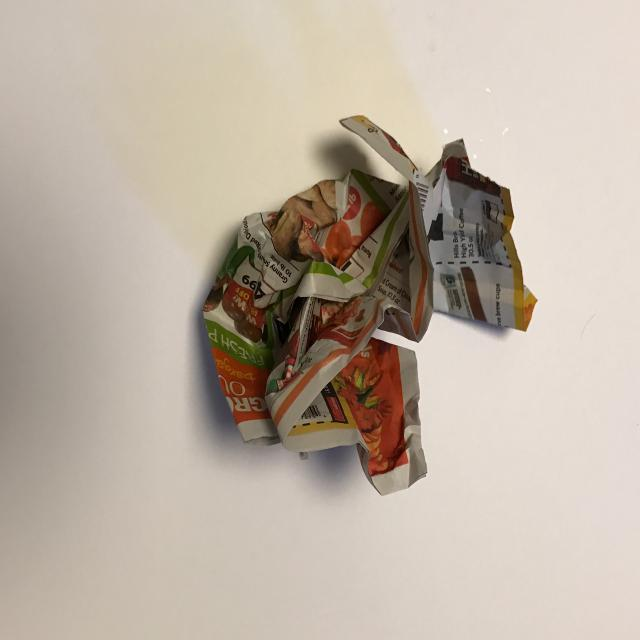Paper: (201, 111, 539, 494)
